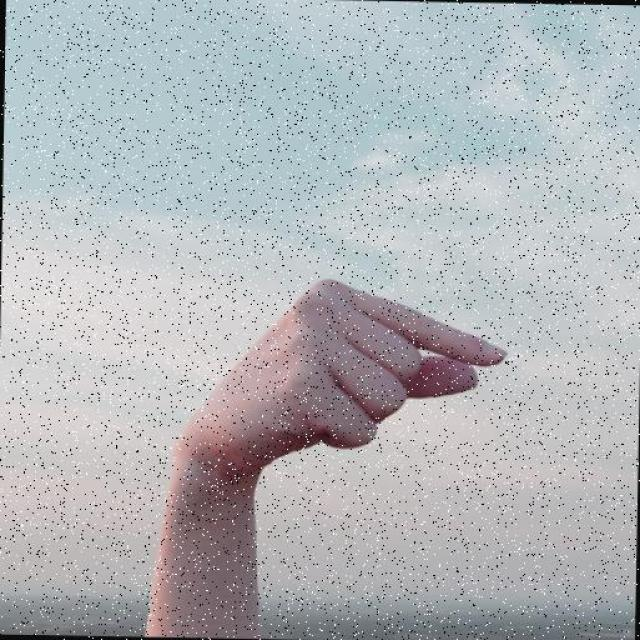G: (184, 274, 512, 460)
